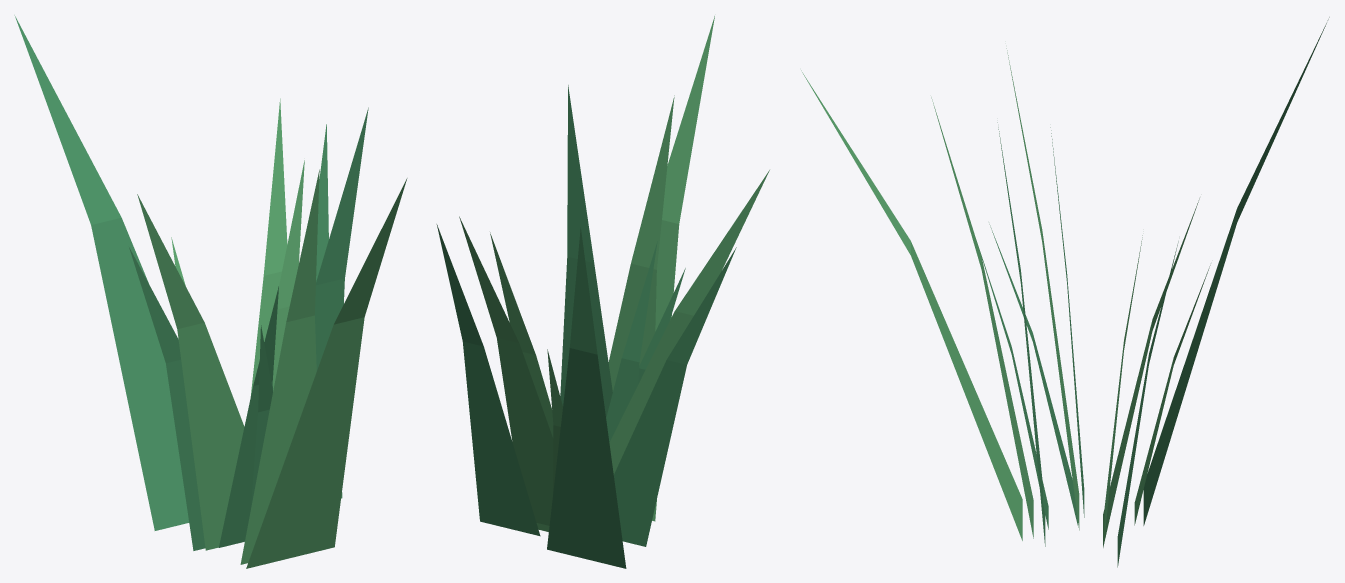
File: Grass_C.glb
The picture shows the model from 3 angles, left to right: view 1: azimuth 30°, elevation 25°; view 2: azimuth 150°, elevation 25°; view 3: azimuth 270°, elevation 25°; orthographic projection. The views are drawn at different scales.
Parts seen in each view (by area): view 1: Grass_C; view 2: Grass_C; view 3: Grass_C.
Part boxes in pixels (left/top/right/bottom): Grass_C: left=14, top=15, right=407, bottom=568; Grass_C: left=436, top=16, right=769, bottom=568; Grass_C: left=801, top=17, right=1329, bottom=567.
Size of the model in its own units: 0.3944 by 0.6268 by 0.6633.
